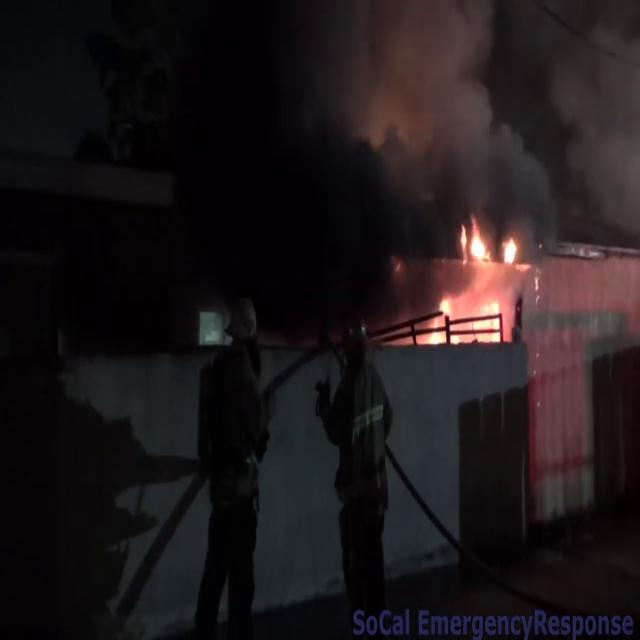Fire: (424, 221, 522, 343)
Smoke: (322, 0, 640, 261)
